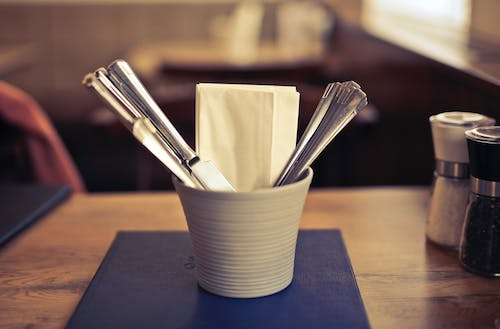knife: (105, 56, 239, 192), (83, 72, 206, 191)
